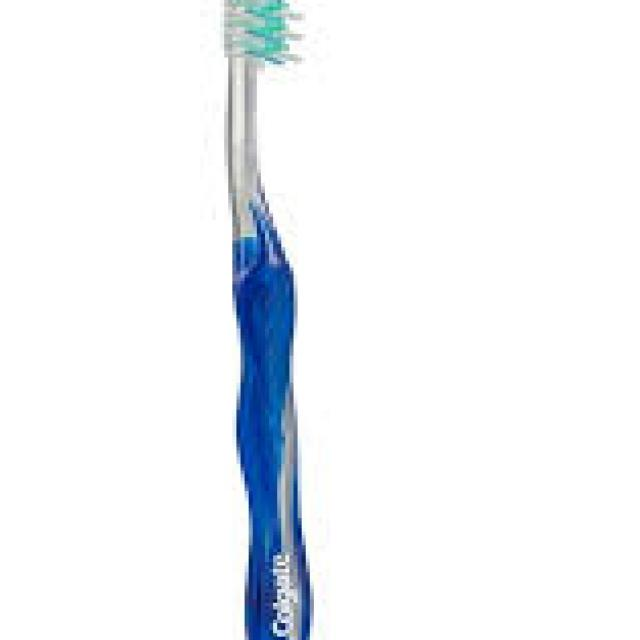organic: (202, 2, 341, 611)
